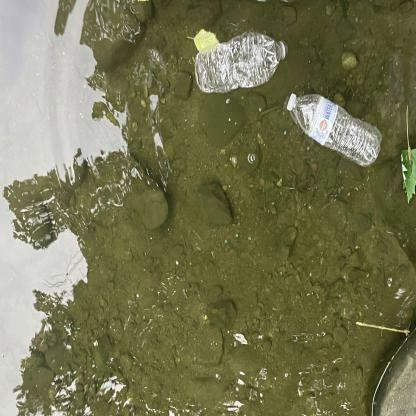Plastic: (281, 86, 386, 171), (190, 28, 289, 96)
